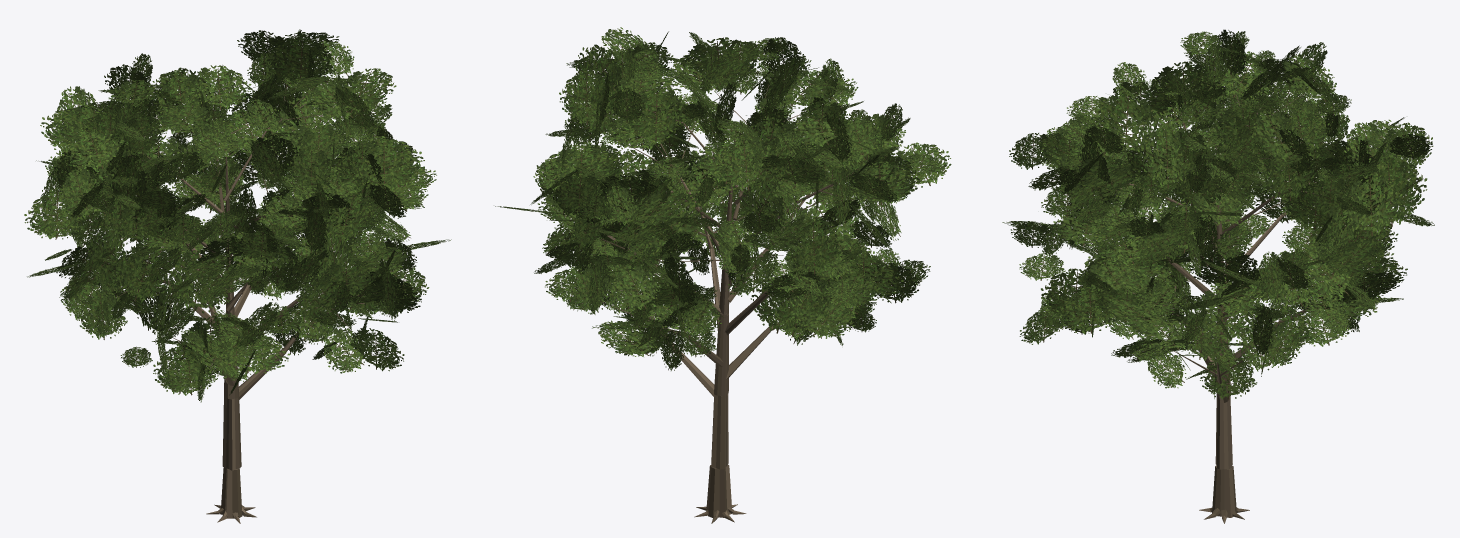
File: rear-mature-broadleaf-v1.glb
The picture shows the model from 3 angles, left to right: view 1: azimuth 30°, elevation 25°; view 2: azimuth 150°, elevation 25°; view 3: azimuth 270°, elevation 25°; orthographic projection. The views are drawn at different scales.
Parts seen in each view (by area): view 1: 成组分布的立体叶冠, 主干、根颈和分叉树枝; view 2: 成组分布的立体叶冠, 主干、根颈和分叉树枝; view 3: 成组分布的立体叶冠, 主干、根颈和分叉树枝.
Boxes of the visible parts, x1=… form: 成组分布的立体叶冠: x1=24, y1=29, x2=451, y2=402; 主干、根颈和分叉树枝: x1=81, y1=84, x2=376, y2=523; 成组分布的立体叶冠: x1=495, y1=27, x2=951, y2=370; 主干、根颈和分叉树枝: x1=584, y1=85, x2=874, y2=523; 成组分布的立体叶冠: x1=1002, y1=29, x2=1434, y2=399; 主干、根颈和分叉树枝: x1=1090, y1=84, x2=1349, y2=523.
Size of the model in its own units: 8.98 by 10.35 by 9.32.
5 materials, 1 textured.
